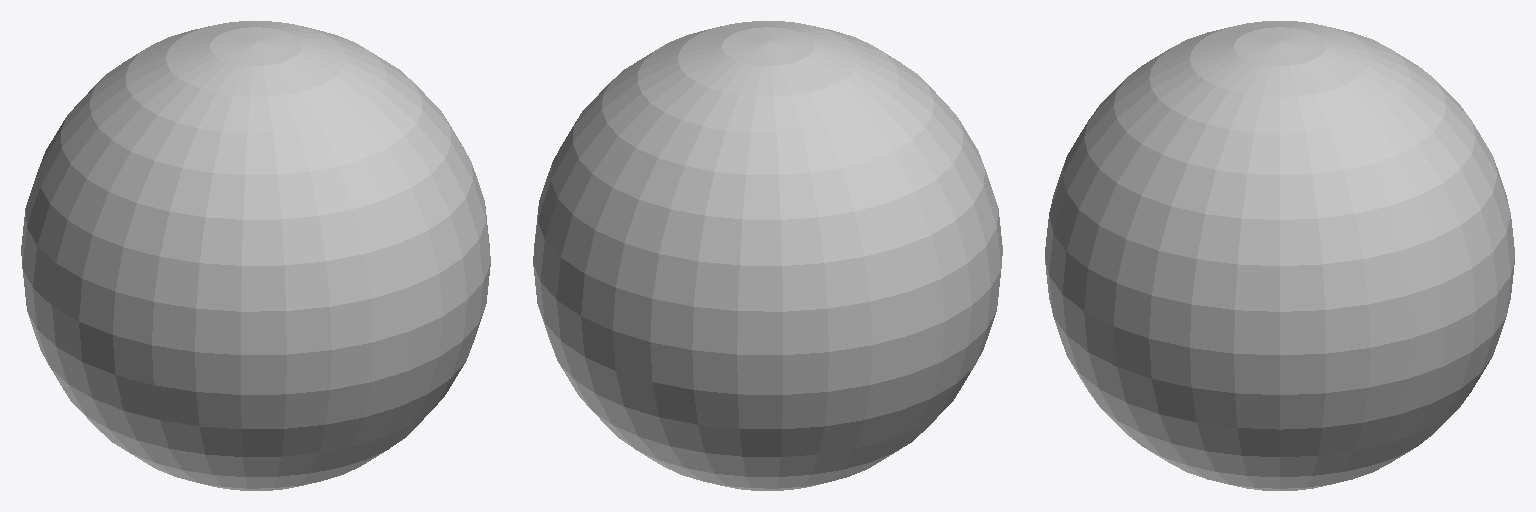
File: eye1.obj
The picture shows the model from 3 angles: view 1: azimuth 30°, elevation 25°; view 2: azimuth 150°, elevation 25°; view 3: azimuth 270°, elevation 25°; orthographic projection.
Visible parts, largest first — view 1: Sphere.002; view 2: Sphere.002; view 3: Sphere.002.
Part boxes in pixels (x1,y1,x2,y2): Sphere.002: (21,21,490,490); Sphere.002: (533,21,1002,490); Sphere.002: (1045,21,1514,490).
Size of the model in its own units: 0.2954 by 0.2954 by 0.2954.